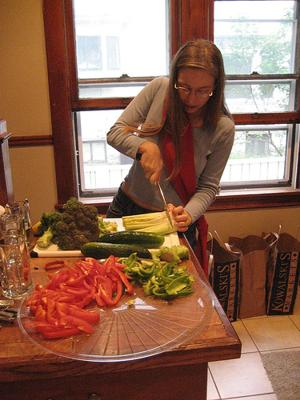person: (105, 39, 237, 254)
